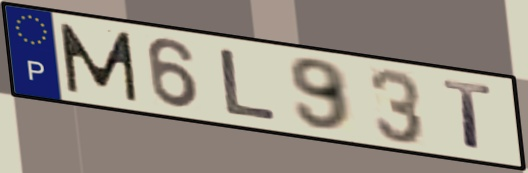3: (368, 65, 426, 147)
6: (145, 37, 202, 110)
9: (286, 56, 358, 134)
L: (218, 46, 281, 123)
M: (56, 20, 142, 105)
T: (439, 77, 496, 154)
